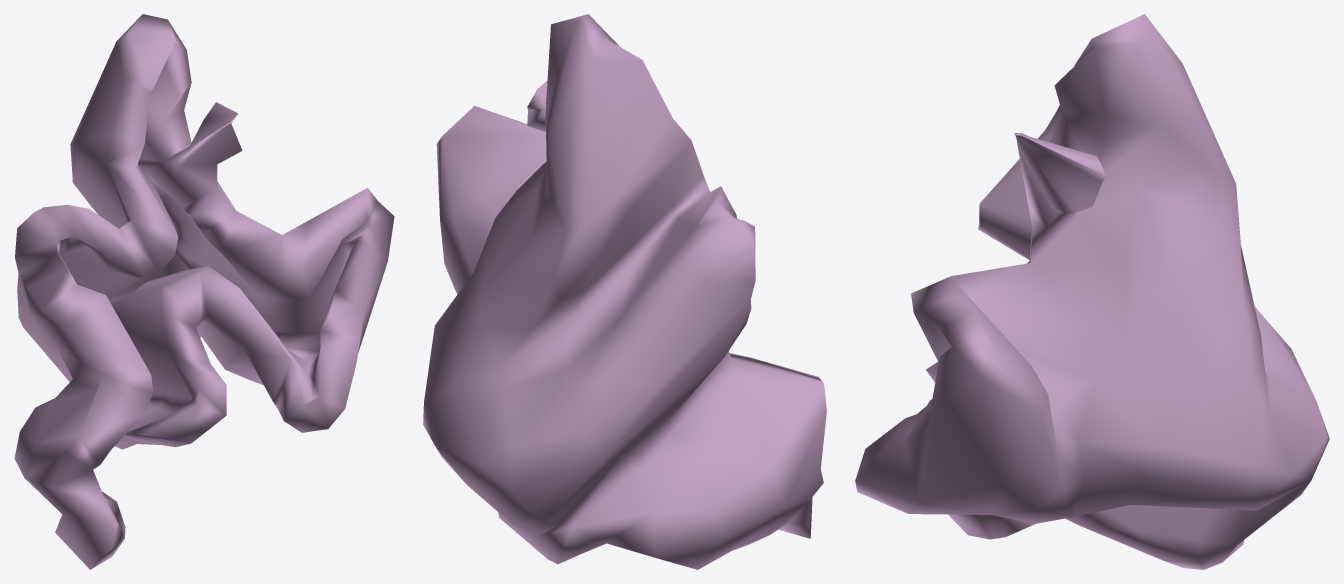
3 renders of one model, left to right at view 1: azimuth 30°, elevation 25°; view 2: azimuth 150°, elevation 25°; view 3: azimuth 270°, elevation 25°, orthographic. The views are drawn at different scales.
Parts seen in each view (by area): view 1: 右侧顶内沟; view 2: 右侧顶内沟; view 3: 右侧顶内沟.
Boxes of the visible parts, x1,y1,x2,y2 form: 右侧顶内沟: (14, 14, 394, 569); 右侧顶内沟: (423, 14, 826, 569); 右侧顶内沟: (855, 14, 1329, 569).
Bounding box in the file's own units: 0.0386 × 0.0516 × 0.0377.
